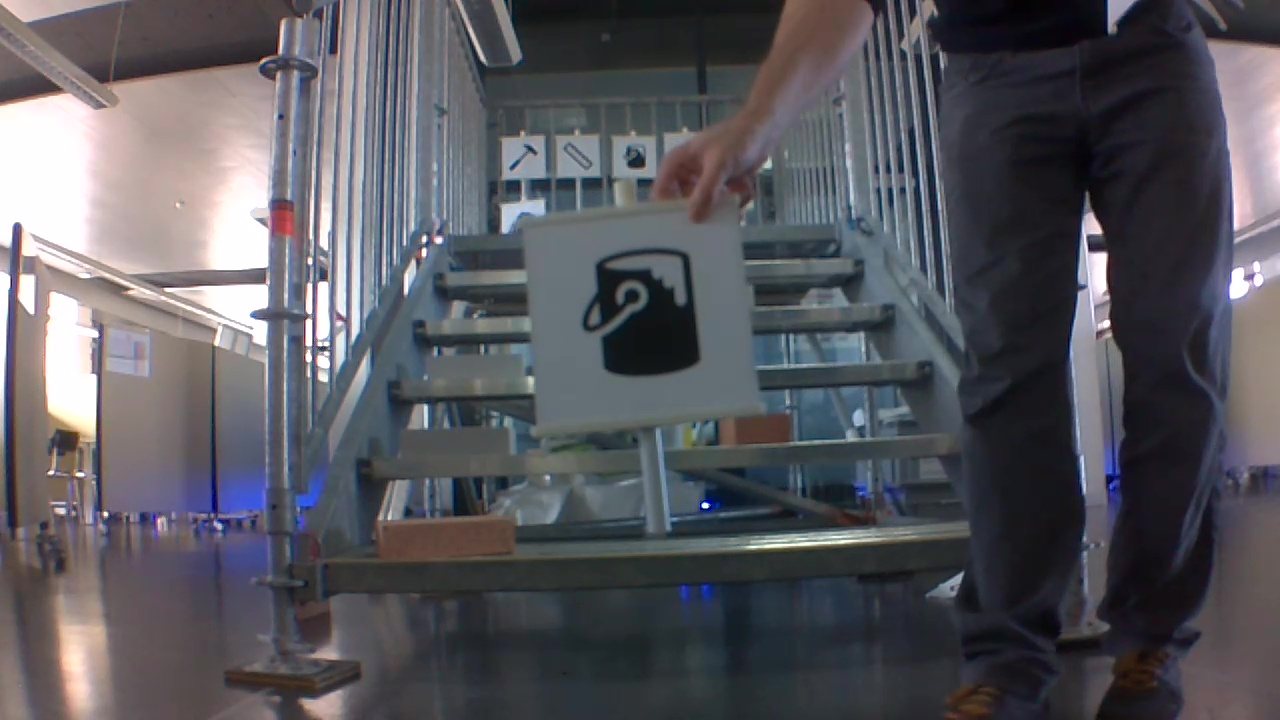brick: (376, 518, 510, 560), (396, 425, 510, 456), (722, 412, 792, 447), (432, 356, 523, 379)
bucket: (582, 239, 703, 371), (619, 137, 653, 173)
edge: (310, 535, 968, 599)
hammer: (506, 141, 539, 173)
ruler: (562, 140, 596, 172)
